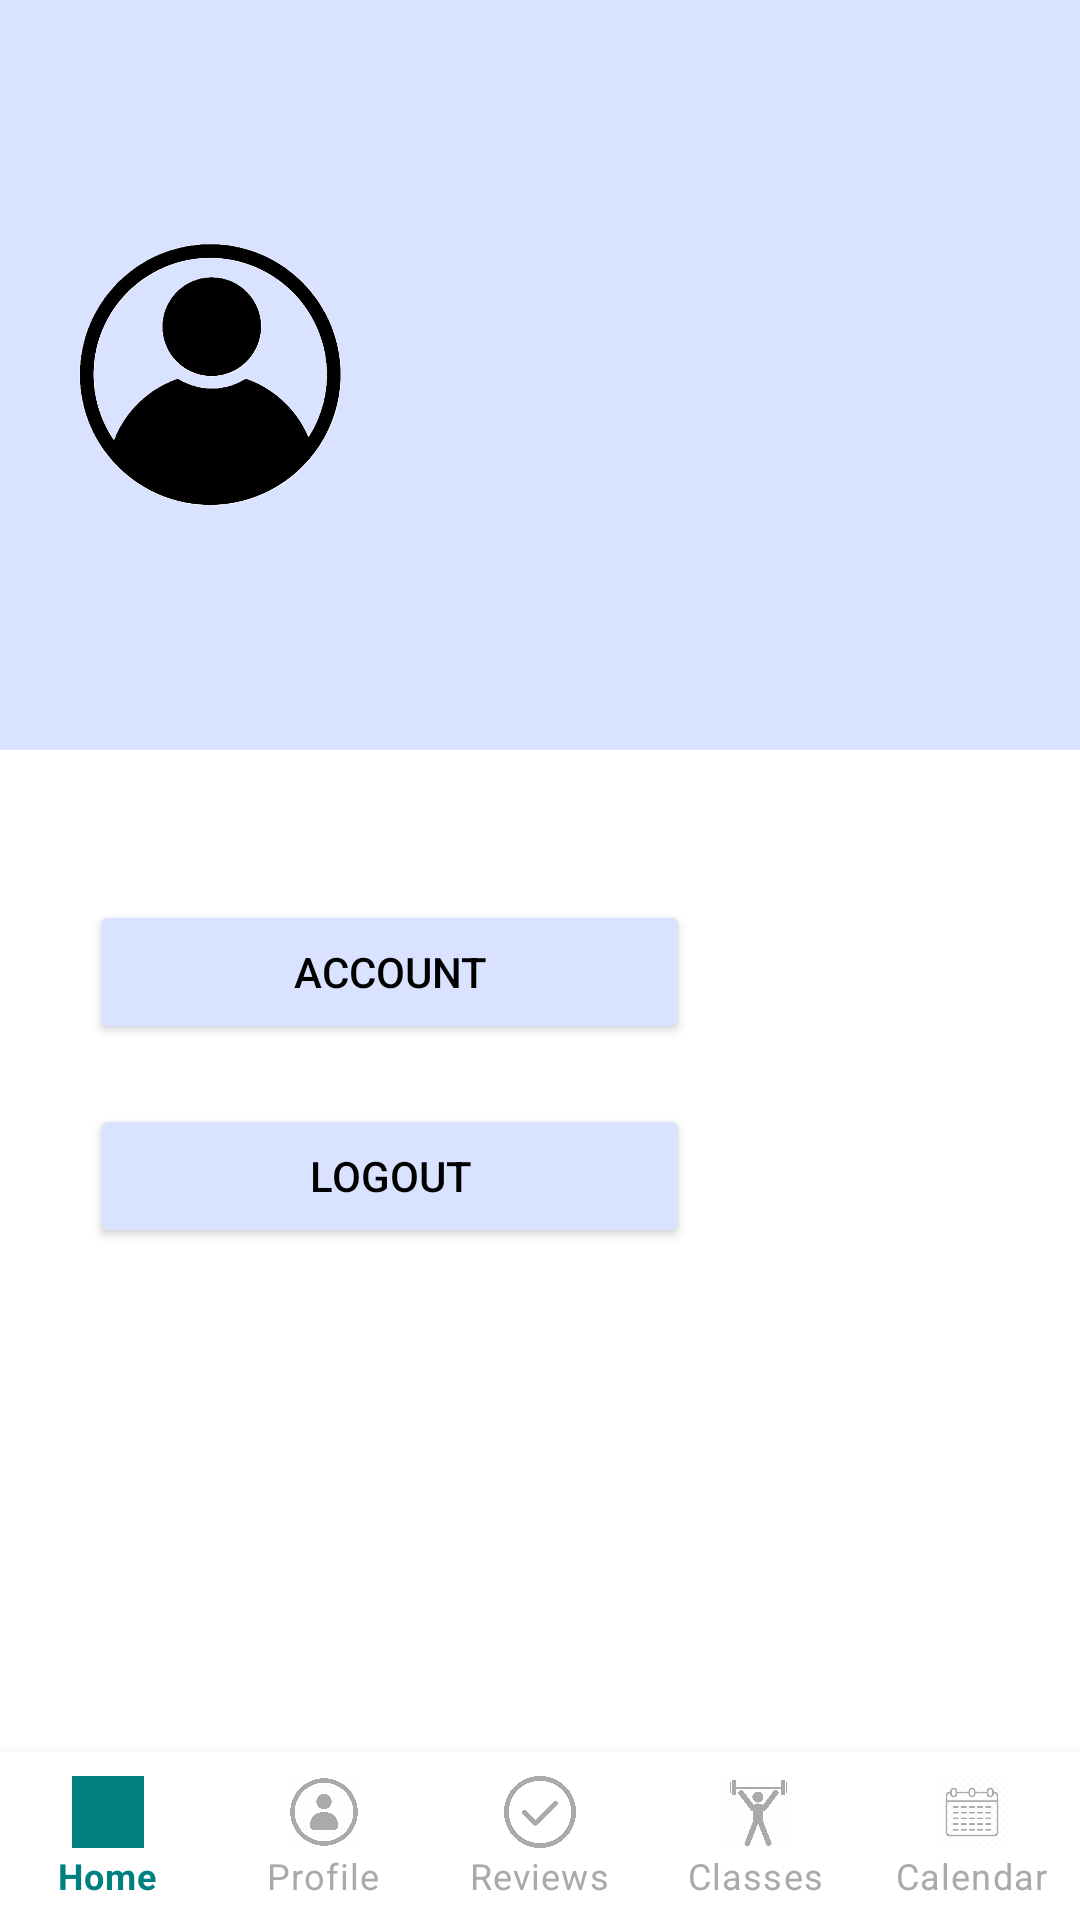

Screen size 1080w x 1920h. Icon name, then its box in pixels as (x1, y1, x2, y2):
profile: (80, 244, 341, 506)
